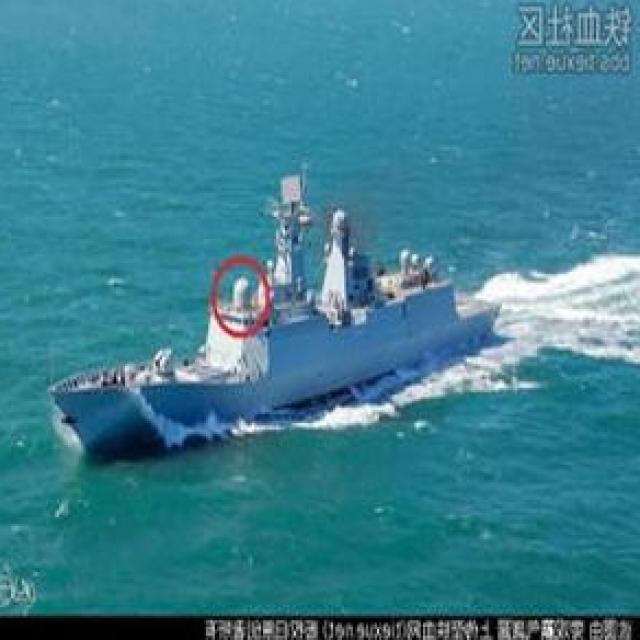navalvessels: (54, 166, 509, 454)
